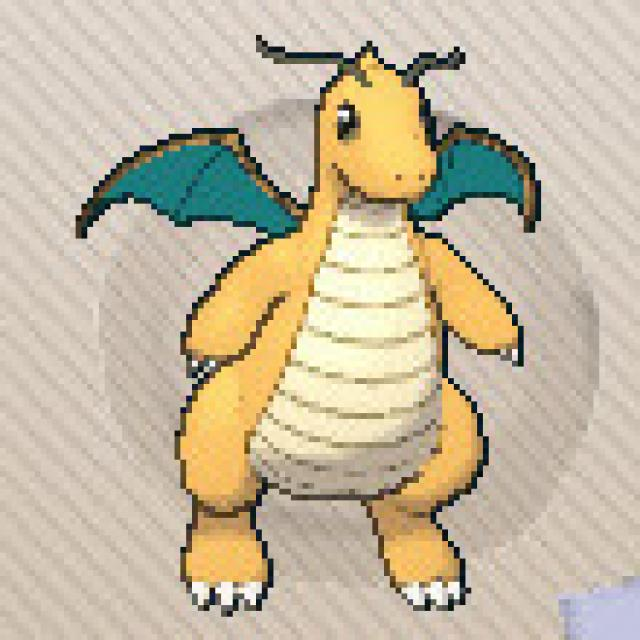Dragonite: (174, 41, 501, 602)
